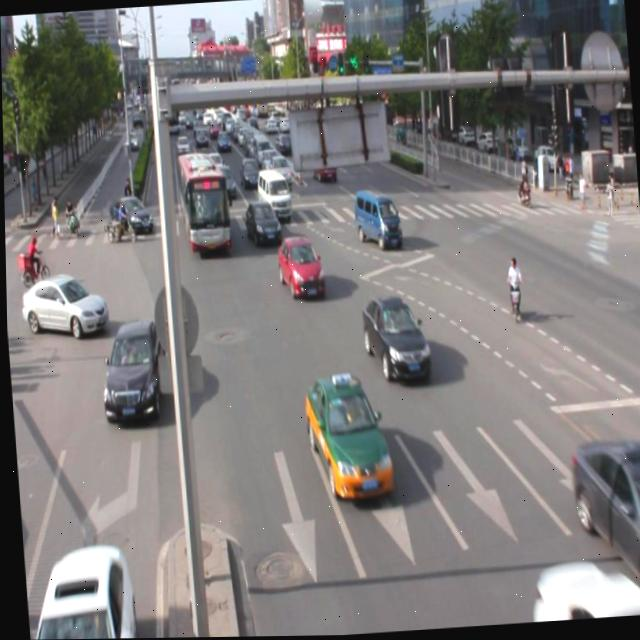car: (568, 436, 640, 615), (303, 372, 392, 502), (21, 543, 135, 640), (523, 549, 640, 624), (96, 318, 167, 425), (359, 295, 431, 383), (276, 234, 324, 300), (242, 200, 281, 250)
truck: (350, 187, 400, 253)
van: (176, 151, 230, 252)
